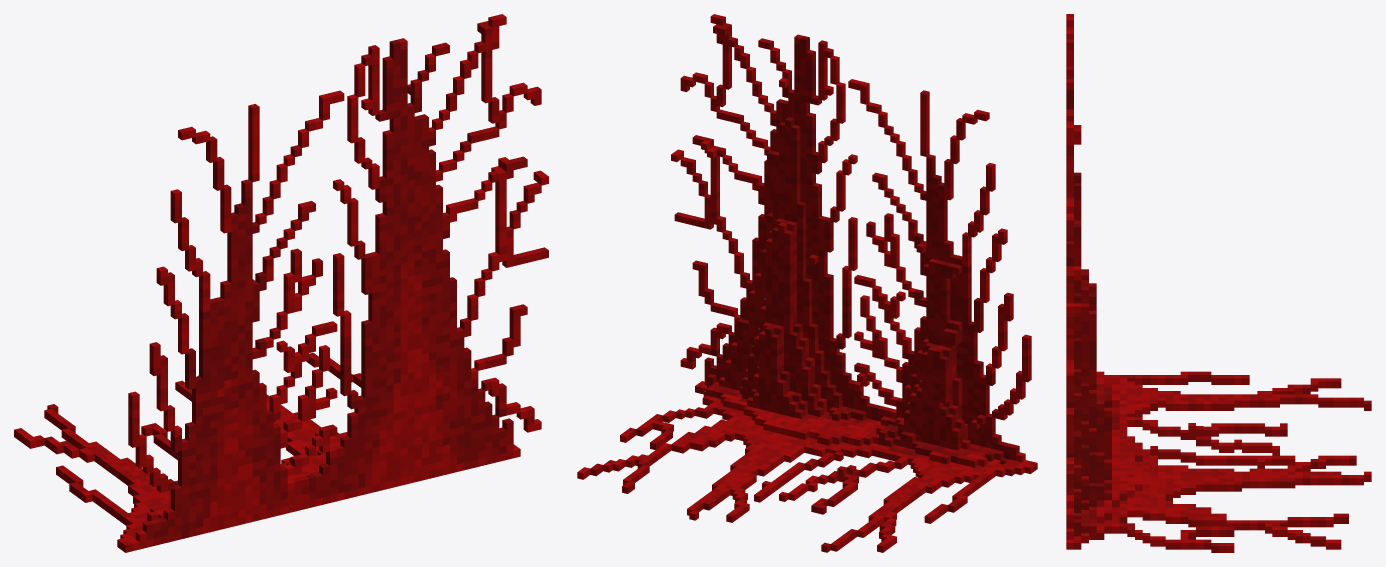
The model's file is Bines-0.obj.
The picture shows the model from 3 angles, left to right: view 1: azimuth 30°, elevation 25°; view 2: azimuth 150°, elevation 25°; view 3: azimuth 270°, elevation 25°; orthographic projection. The views are drawn at different scales.
Bounding box in the file's own units: 6 × 6 × 4.
1 material, 1 textured.
